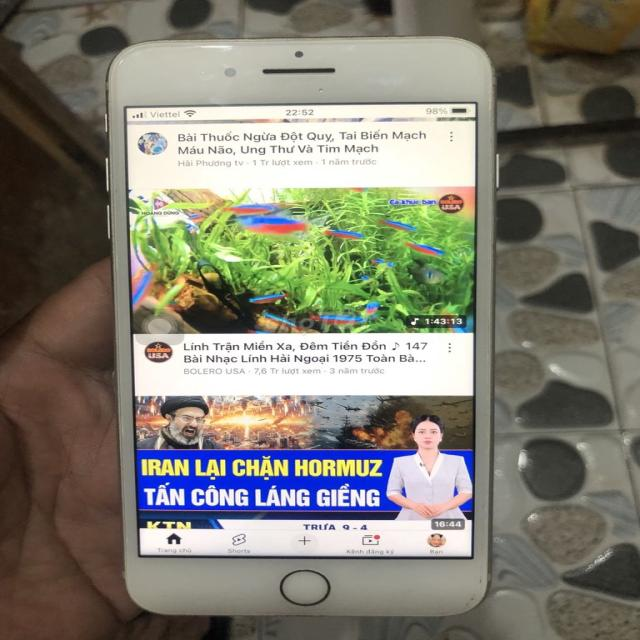gen_7_8: (104, 38, 514, 626)
scratch: (455, 570, 488, 609)
